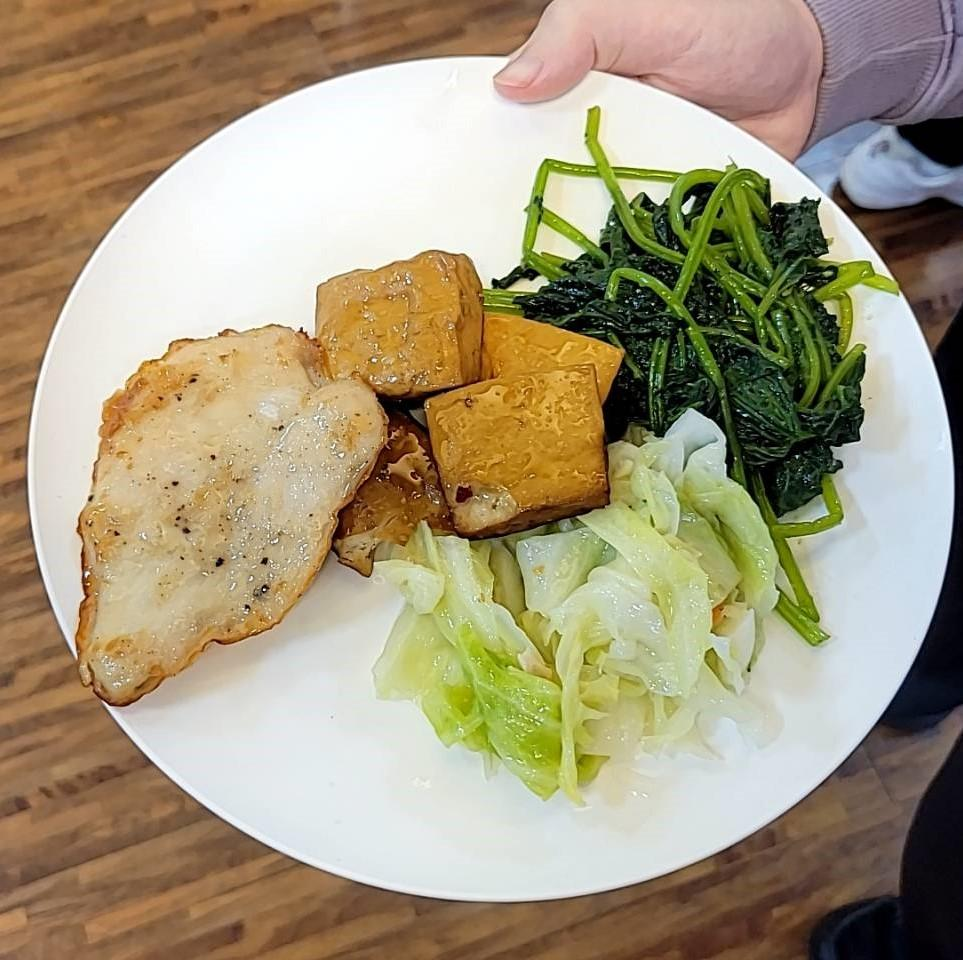big fried chicken leg: (16, 42, 955, 898)
braised fish fillet: (384, 414, 776, 794), (530, 140, 862, 517), (316, 250, 627, 573)
braised pork: (59, 314, 382, 711)
